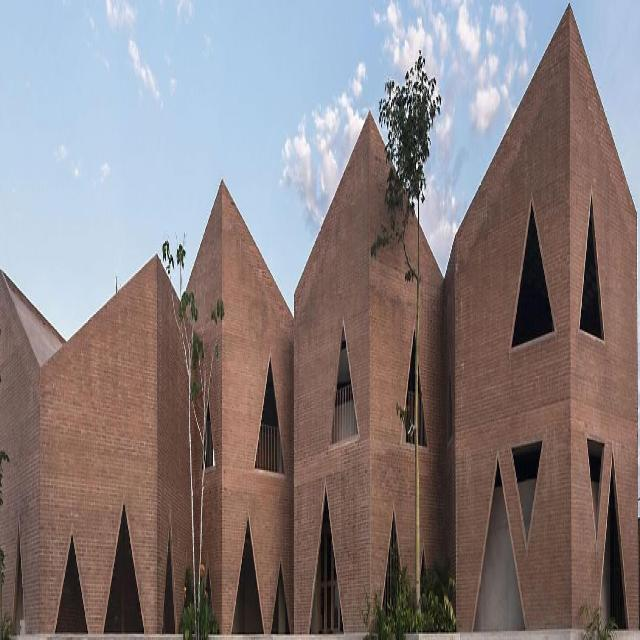Railing: (382, 509, 402, 604), (330, 382, 358, 442), (255, 422, 284, 471)
plant: (368, 55, 458, 635), (163, 235, 224, 637)
wall: (0, 4, 637, 636)
